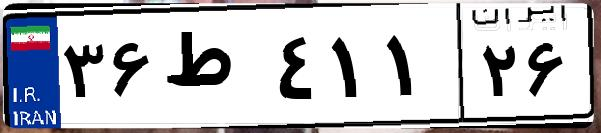1: (385, 28, 445, 110), (330, 28, 385, 110)
2: (475, 38, 525, 113)
3: (57, 26, 110, 100)
4: (270, 28, 330, 110)
6: (525, 38, 570, 115), (110, 28, 158, 98)
ط: (158, 20, 270, 120)
